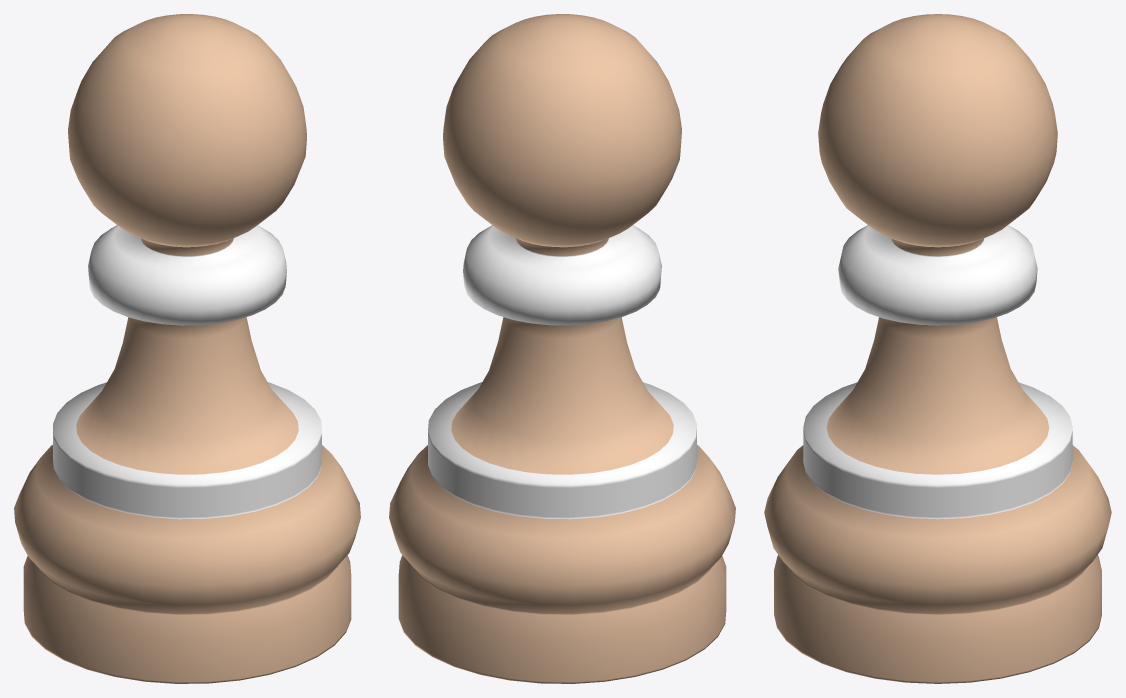
File: pawn_white.glb
The picture shows the model from 3 angles, left to right: view 1: azimuth 30°, elevation 25°; view 2: azimuth 150°, elevation 25°; view 3: azimuth 270°, elevation 25°; orthographic projection.
Visible parts, largest first — view 1: Peon.005; view 2: Peon.005; view 3: Peon.005.
Part boxes in pixels (left/top/right/bottom): Peon.005: left=14, top=14, right=360, bottom=683; Peon.005: left=389, top=14, right=735, bottom=683; Peon.005: left=764, top=14, right=1111, bottom=683.
Bounding box in the file's own units: 0.2513 × 0.4699 × 0.2513.
